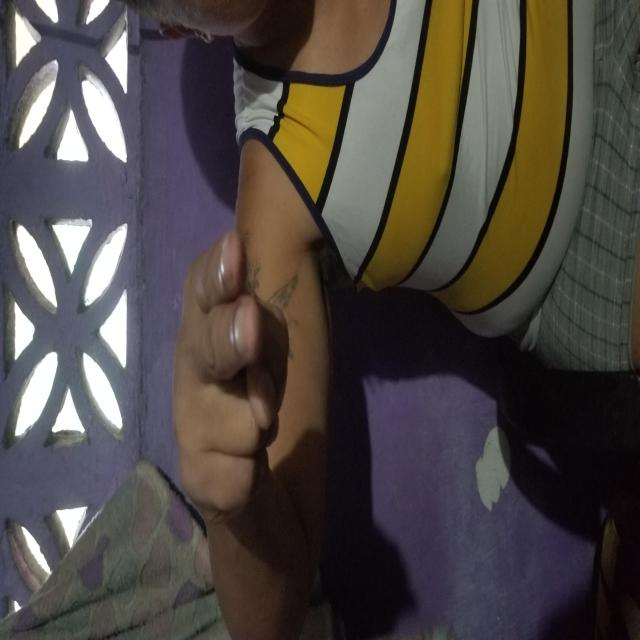N: (125, 171, 411, 290)
